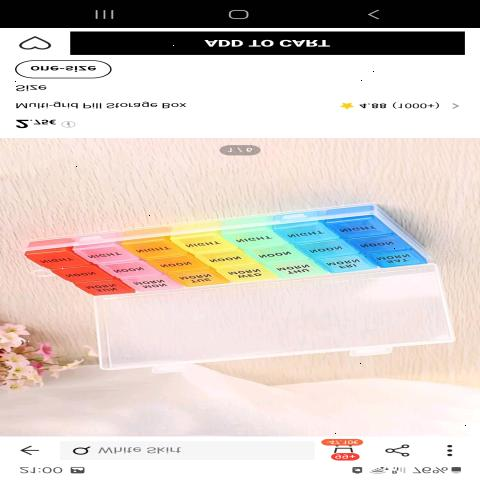PillBox: (22, 204, 435, 310)
